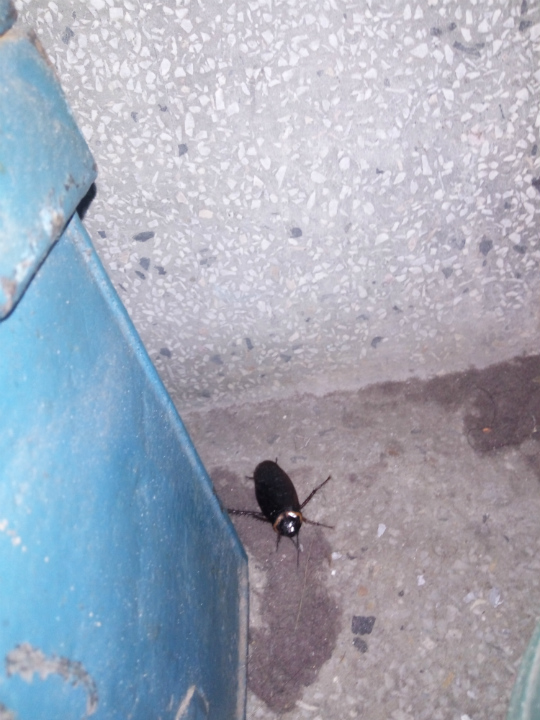cockroach: (200, 411, 346, 556)
